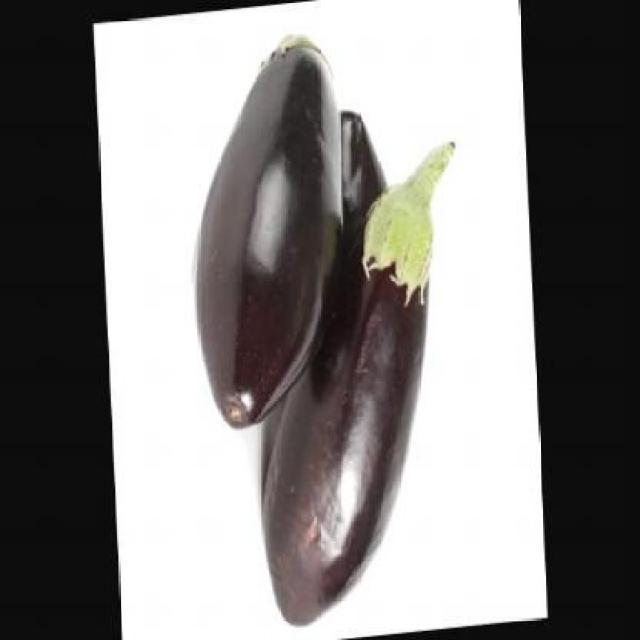eggplant: (244, 142, 478, 630), (182, 30, 348, 432), (335, 106, 388, 217)
